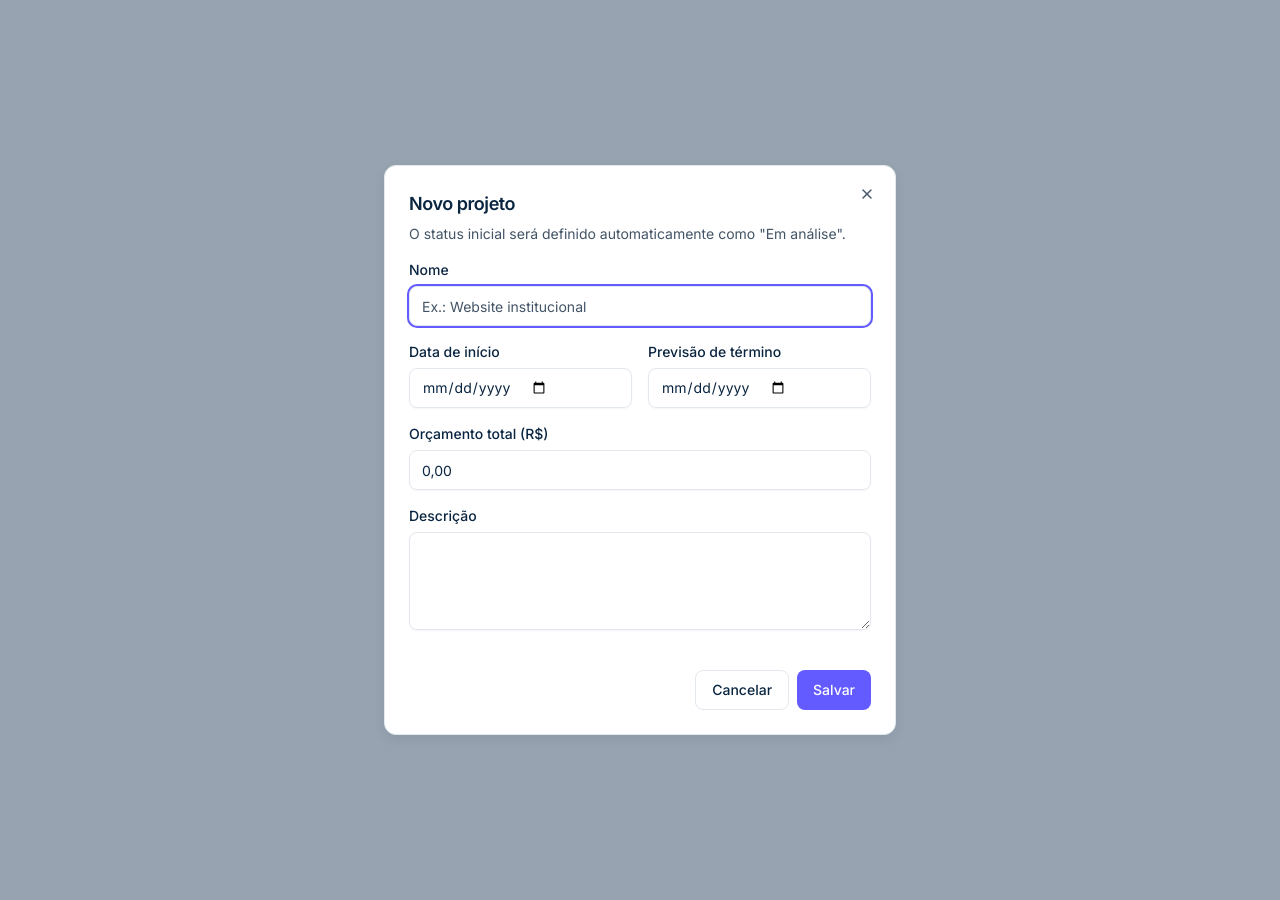
Test: ProjectFormModal › exibe erros de validacao ao submeter o formulario vazio
Click the button "Salvar" at (834, 690), box x1=797 y1=670 x2=871 y2=710
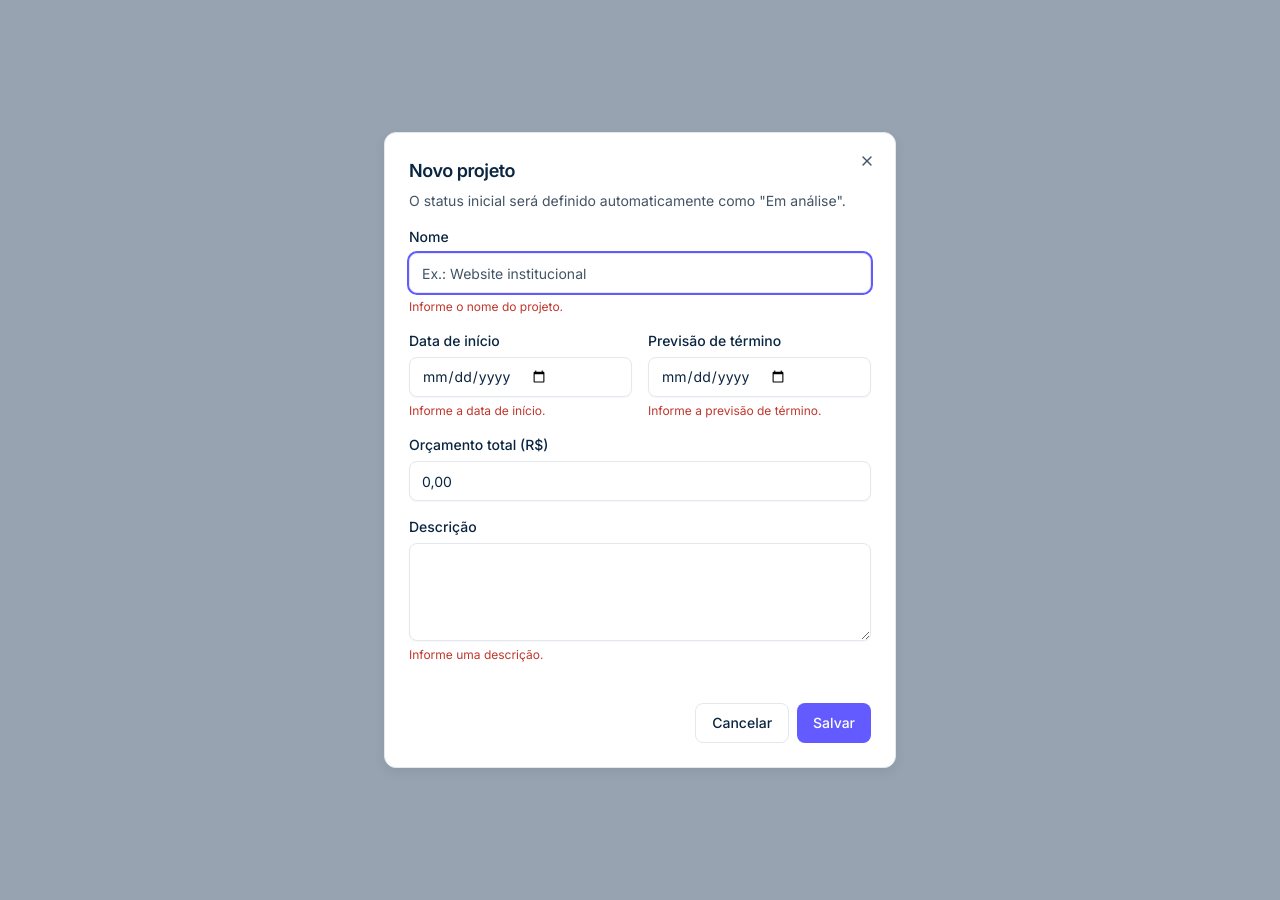
Expected: the text "Informe o nome do projeto." is shown, x1=409 y1=299 x2=563 y2=314
Expected: the text "Informe a data de início." is shown, x1=409 y1=403 x2=546 y2=418
Expected: the text "Informe a previsão de término." is shown, x1=648 y1=403 x2=821 y2=418
